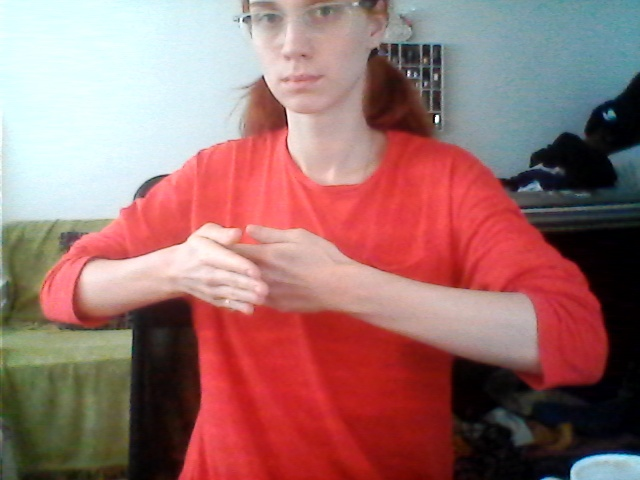dvere: (174, 218, 355, 333)
